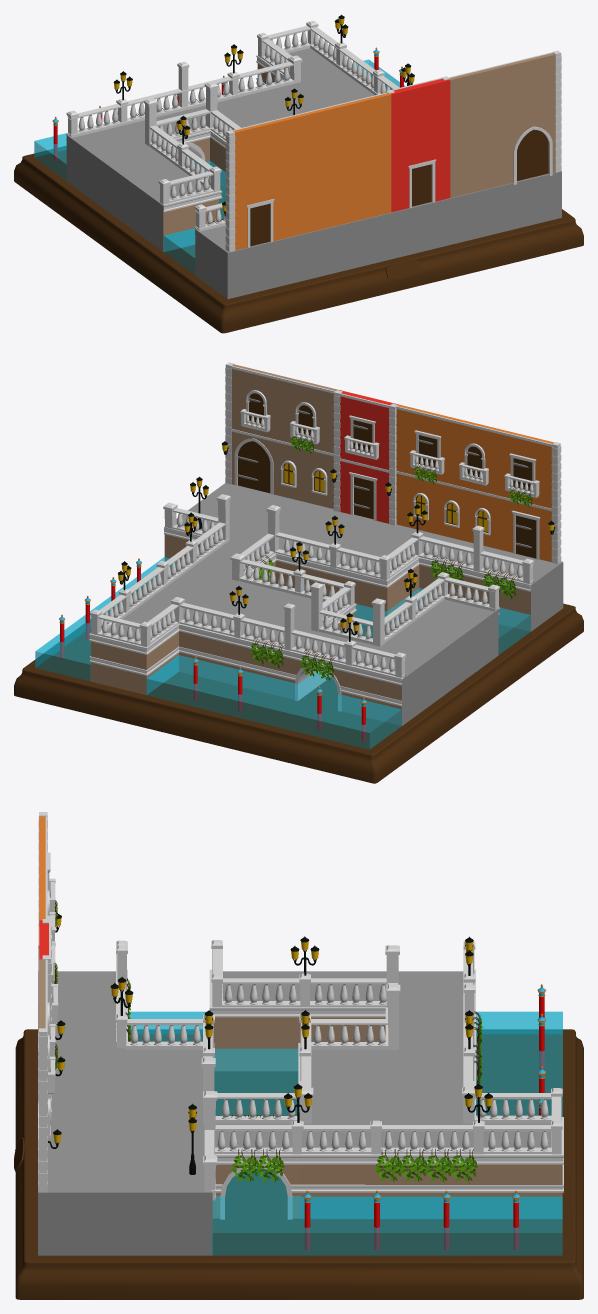
File: level_03.FBX
3 views of the same model, one above another, from view 1: azimuth 30°, elevation 25°; view 2: azimuth 150°, elevation 25°; view 3: azimuth 270°, elevation 25° (orthographic). The views are drawn at different scales.
Visible parts, largest first — view 1: level4; view 2: level4; view 3: level4.
Boxes of the visible parts, x1,y1,x2,y2 form: level4: [14, 14, 583, 333]; level4: [14, 362, 583, 783]; level4: [14, 812, 583, 1299].
Size of the model in its own units: 132 by 66.14 by 132.
